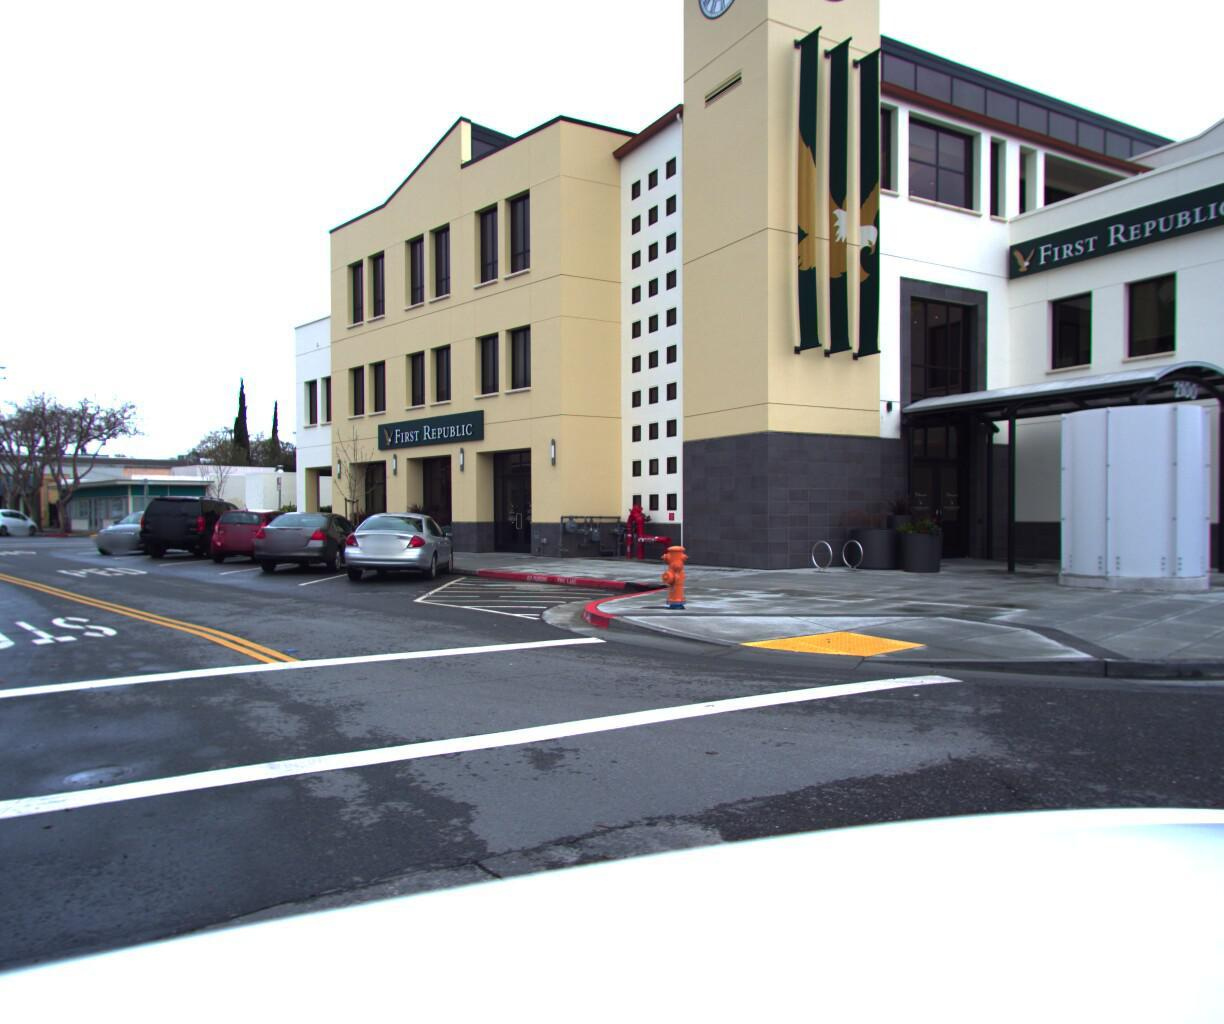car: (332, 514, 462, 591), (135, 498, 273, 565), (245, 514, 377, 581), (205, 511, 320, 568), (89, 516, 215, 563), (0, 511, 53, 541), (0, 513, 27, 541), (0, 507, 13, 537)
